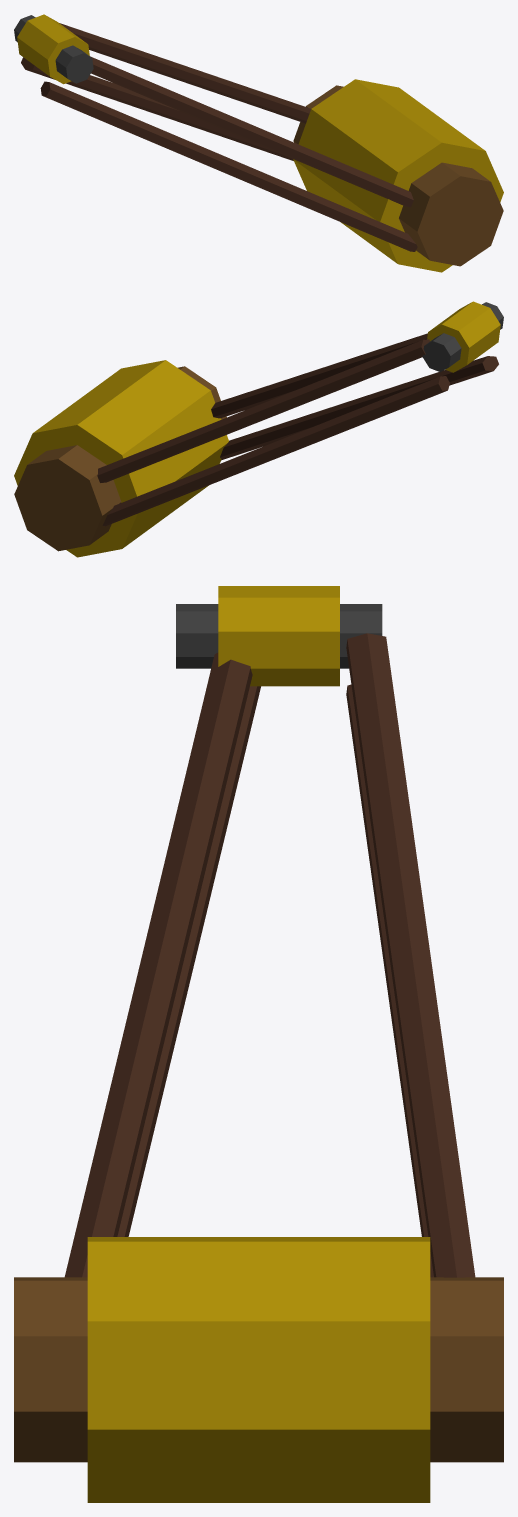
The model's file is tandwiel_connector.fbx.
The picture shows the model from 3 angles, top to bottom: view 1: azimuth 30°, elevation 25°; view 2: azimuth 150°, elevation 25°; view 3: azimuth 270°, elevation 25°; orthographic projection. The views are drawn at different scales.
Parts seen in each view (by area): view 1: polySurface21; view 2: polySurface21; view 3: polySurface21.
Part boxes in pixels (<box>): polySurface21: <box>14,14,503,272</box>; polySurface21: <box>14,301,503,557</box>; polySurface21: <box>14,586,503,1502</box>.
Size of the model in its own units: 3.59 by 2.37 by 1.82.
